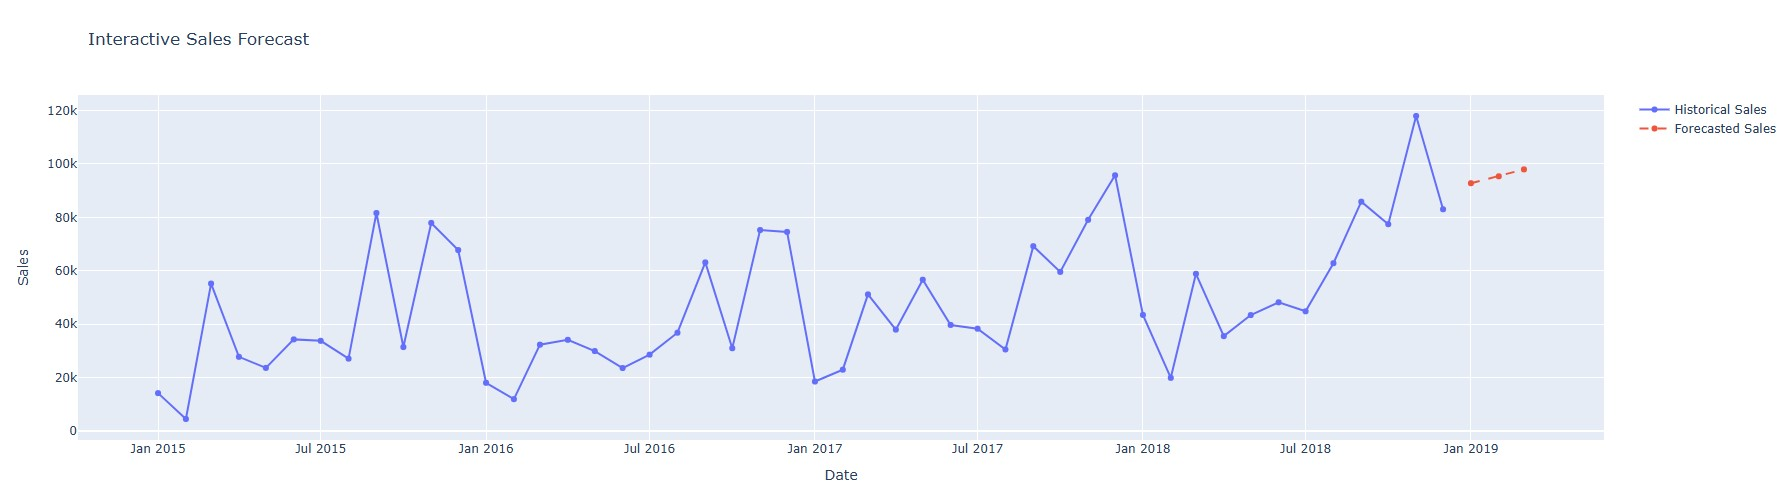

This screenshot's page, from the dashboard's own definition file:
{"tool":"powerbi","page":{"name":"Page 2","canvas":[1280,720],"ordinal":1},"visuals":[{"type":"lineChart","title":"Sum of Sales by Year","fields":{"Y":["Sum(train.Sales)"],"Category":["train.YearMonth.Variation.Hiérarchie de dates.Année","train.YearMonth.Variation.Hiérarchie de dates.Mois","train.YearMonth.Variation.Hiérarchie de dates.Jour"]},"box":[9.9,0,1270.5,569.8],"z":1000}]}

Visuals, with their boxes on the page's 1280x720 design canvas (x1, y1, x2, y2). These are canvas units, not pixel positions in the 1782x490 screenshot, which may show the page scaled, cropped or inside an application window:
"Sum of Sales by Year" lineChart: (left=10, top=0, right=1280, bottom=570)
